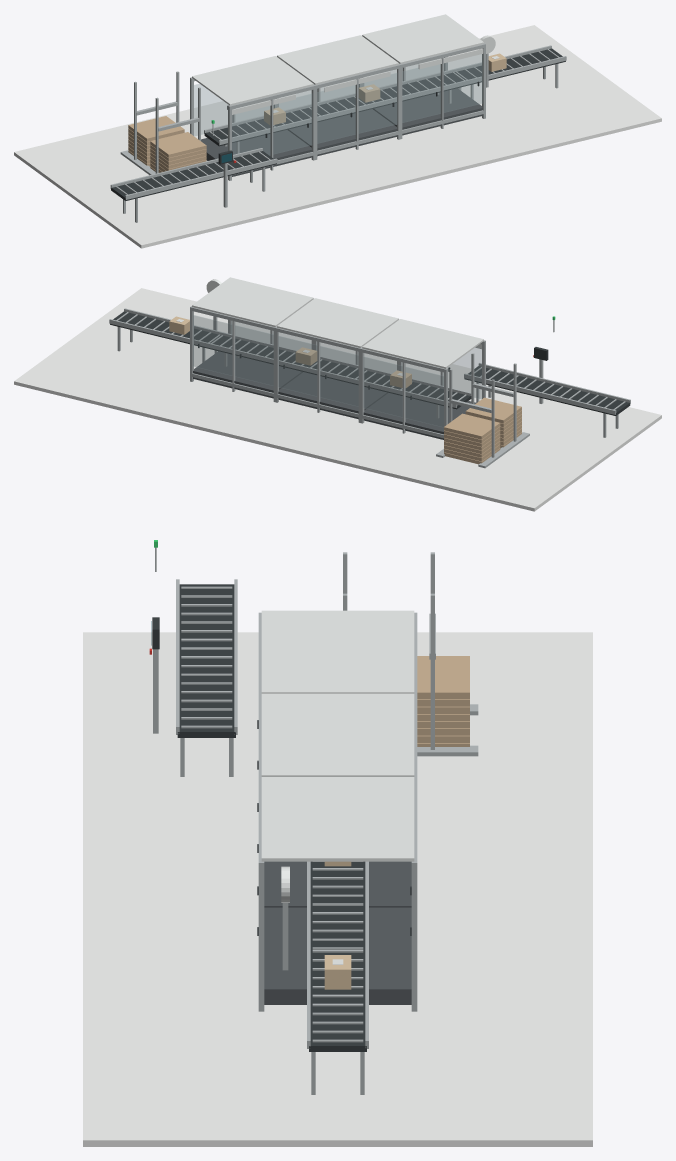
3 renders of one model, top to bottom at view 1: azimuth 30°, elevation 25°; view 2: azimuth 150°, elevation 25°; view 3: azimuth 270°, elevation 25°, orthographic. The views are drawn at different scales.
Parts seen in each view (by area): view 1: Factory floor, X7 guarded enclosure 1 roof, X7 guarded enclosure 2 roof, X7 guarded enclosure 3 roof, X7 guarded enclosure 2 base, X7 guarded enclosure 3 base, X7 internal processing deck, X7 guarded enclosure 1 transparent safety window.001, X7 guarded enclosure 3 transparent safety window, X7 guarded enclosure 2 transparent safety window, X7 guarded enclosure 2 transparent safety window.001, X7 guarded enclosure 3 transparent safety window.001 (+21 smaller); view 2: Factory floor, X7 guarded enclosure 1 roof, X7 guarded enclosure 2 roof, X7 guarded enclosure 3 roof, X7 guarded enclosure 2 base, X7 guarded enclosure 3 base, X7 guarded enclosure 1 base, X7 internal processing deck, X7 guarded enclosure 1 transparent safety window.003, X7 guarded enclosure 2 transparent safety window.002, X7 guarded enclosure 3 transparent safety window.002, X7 guarded enclosure 3 transparent safety window.003 (+23 smaller); view 3: Factory floor, X7 guarded enclosure 3 roof, X7 guarded enclosure 1 roof, X7 guarded enclosure 2 roof, X7 guarded enclosure 3 base, X7 left induction deck, X7 right output deck, X7 internal processing deck, X7 guarded enclosure 2 base, Fanfold stacked corrugate.015, X7 guarded enclosure 3 corner column.002, X7 guarded enclosure 3 corner column.003 (+1 smaller).
Boxes of the visible parts, <box> form: Factory floor: <box>14,25,661,248</box>; X7 guarded enclosure 1 roof: <box>192,56,313,105</box>; X7 guarded enclosure 2 roof: <box>277,35,398,84</box>; X7 guarded enclosure 3 roof: <box>362,14,483,64</box>; X7 guarded enclosure 2 base: <box>288,109,397,156</box>; X7 guarded enclosure 3 base: <box>373,88,482,135</box>; X7 internal processing deck: <box>204,72,471,146</box>; X7 guarded enclosure 1 transparent safety window.001: <box>273,94,312,154</box>; X7 guarded enclosure 3 transparent safety window: <box>402,64,440,122</box>; X7 guarded enclosure 2 transparent safety window: <box>317,85,355,143</box>; X7 guarded enclosure 2 transparent safety window.001: <box>359,73,397,133</box>; X7 guarded enclosure 3 transparent safety window.001: <box>444,54,482,112</box>; Factory floor: <box>14,288,661,511</box>; X7 guarded enclosure 1 roof: <box>362,319,483,368</box>; X7 guarded enclosure 2 roof: <box>277,298,398,347</box>; X7 guarded enclosure 3 roof: <box>192,277,313,327</box>; X7 guarded enclosure 2 base: <box>278,372,387,419</box>; X7 guarded enclosure 3 base: <box>193,351,302,398</box>; X7 guarded enclosure 1 base: <box>363,393,476,439</box>; X7 internal processing deck: <box>207,335,471,409</box>; X7 guarded enclosure 1 transparent safety window.003: <box>363,357,402,417</box>; X7 guarded enclosure 2 transparent safety window.002: <box>320,346,358,406</box>; X7 guarded enclosure 3 transparent safety window.002: <box>235,325,273,385</box>; X7 guarded enclosure 3 transparent safety window.003: <box>193,315,231,375</box>; Factory floor: <box>83,632,592,1146</box>; X7 guarded enclosure 3 roof: <box>261,777,414,861</box>; X7 guarded enclosure 1 roof: <box>261,610,414,693</box>; X7 guarded enclosure 2 roof: <box>261,693,414,776</box>; X7 guarded enclosure 3 base: <box>264,907,411,1004</box>; X7 left induction deck: <box>177,584,235,737</box>; X7 right output deck: <box>309,947,366,1051</box>; X7 internal processing deck: <box>310,861,365,953</box>; X7 guarded enclosure 2 base: <box>264,861,411,907</box>; Fanfold stacked corrugate.015: <box>417,656,469,699</box>; X7 guarded enclosure 3 corner column.002: <box>258,861,264,1011</box>; X7 guarded enclosure 3 corner column.003: <box>411,861,417,1011</box>.
Size of the model in its own units: 16.5 by 2.82 by 7.
